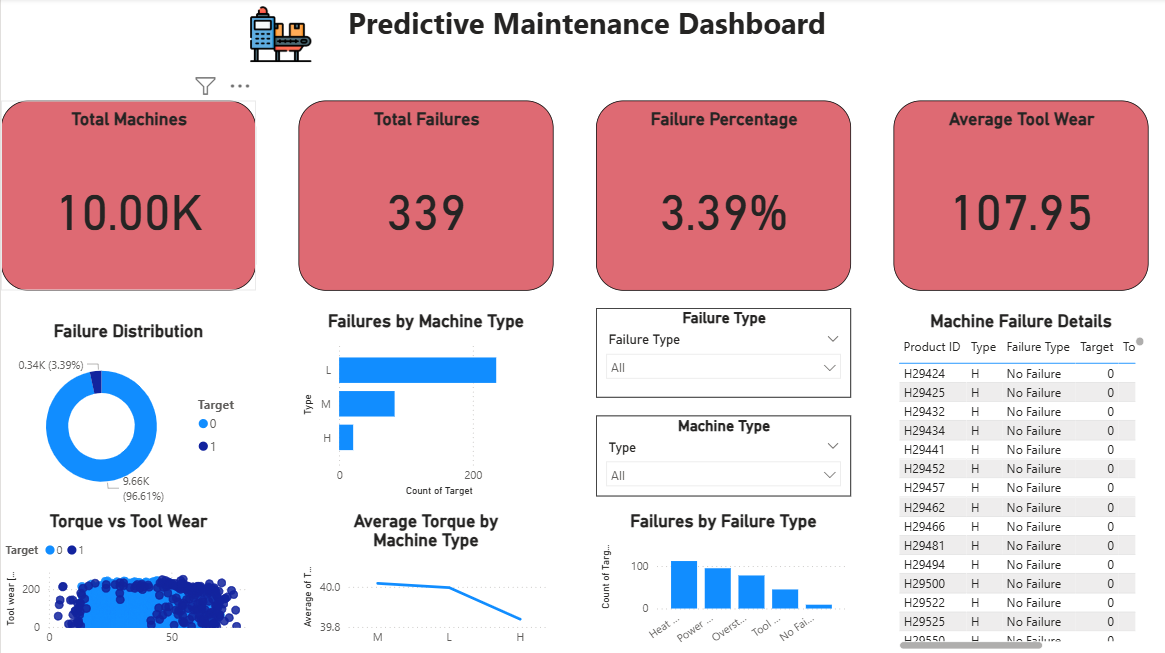

Layout of this report page (visuals, bound fields, positions):
{"tool":"powerbi","page":{"name":"Page 1","canvas":[1280,720],"ordinal":0},"visuals":[{"type":"card","title":"Total Machines","fields":{"Values":["CountNonNull(predictive_maintenance.Type)"]},"box":[0,112.5,279.9,208.6],"z":0},{"type":"card","title":"Total Failures","fields":{"Values":["CountNonNull(predictive_maintenance.Target)"]},"box":[326.6,112.5,279.9,208.6],"z":1000},{"type":"card","title":"Failure Percentage","fields":{"Values":["predictive_maintenance.Failure Rate"]},"box":[653.2,112.5,279.9,208.6],"z":2000},{"type":"card","title":"Average Tool Wear","fields":{"Values":["Avg(predictive_maintenance.Tool wear [min])"]},"box":[979.8,112.5,279.9,208.6],"z":3000},{"type":"donutChart","title":"Failure Distribution","fields":{"Category":["predictive_maintenance.Target"],"Y":["CountNonNull(predictive_maintenance.Target)"]},"box":[0,354,279.9,208.6],"z":4000},{"type":"clusteredBarChart","title":"Failures by Machine Type","fields":{"Category":["predictive_maintenance.Type"],"Y":["CountNonNull(predictive_maintenance.Target)"]},"box":[326.6,343.1,279.9,208.6],"z":5000},{"type":"scatterChart","title":"Torque vs Tool Wear","fields":{"X":["predictive_maintenance.Torque [Nm]"],"Y":["predictive_maintenance.Tool wear [min]"],"Series":["predictive_maintenance.Target"]},"box":[0,562,280,158],"z":6000},{"type":"lineChart","title":"Average  Torque  by Machine Type","fields":{"Category":["predictive_maintenance.Type"],"Y":["Avg(predictive_maintenance.Torque [Nm])"]},"box":[327,562,280,158],"z":7000},{"type":"tableEx","title":"Machine Failure Details","fields":{"Values":["predictive_maintenance.Product ID","predictive_maintenance.Type","predictive_maintenance.Failure Type","predictive_maintenance.Target","predictive_maintenance.Torque [Nm]","predictive_maintenance.Tool wear [min]"]},"box":[979.8,343.1,279.9,377.4],"z":8000},{"type":"slicer","title":"Machine Type","fields":{"Values":["predictive_maintenance.Type"]},"box":[653.2,458.3,279.9,89.2],"z":9000},{"type":"slicer","title":"Failure Type","fields":{"Values":["predictive_maintenance.Failure Type"]},"box":[653.2,340.3,279.9,98.8],"z":10000},{"type":"clusteredColumnChart","title":"Failures by Failure Type","fields":{"Category":["predictive_maintenance.Failure Type"],"Y":["CountNonNull(predictive_maintenance.Target)"]},"box":[653.2,562.6,279.9,157.8],"z":10001},{"type":"textbox","box":[376,0,557.1,89.2],"z":10002},{"type":"image","box":[260.7,1.4,93.3,76.8],"z":10003}]}

Visuals, with their boxes in screenshot pixels (x1, y1, x2, y2), scaled from the page's 1280x720 canvas onto the 1165x653 screenshot:
"Total Machines" card: x1=0 y1=102 x2=255 y2=291
"Total Failures" card: x1=297 y1=102 x2=552 y2=291
"Failure Percentage" card: x1=595 y1=102 x2=849 y2=291
"Average Tool Wear" card: x1=892 y1=102 x2=1147 y2=291
"Failure Distribution" donutChart: x1=0 y1=321 x2=255 y2=510
"Failures by Machine Type" clusteredBarChart: x1=297 y1=311 x2=552 y2=500
"Torque vs Tool Wear" scatterChart: x1=0 y1=510 x2=255 y2=652
"Average  Torque  by Machine Type" lineChart: x1=298 y1=510 x2=552 y2=652
"Machine Failure Details" tableEx: x1=892 y1=311 x2=1147 y2=652
"Machine Type" slicer: x1=595 y1=416 x2=849 y2=497
"Failure Type" slicer: x1=595 y1=309 x2=849 y2=398
"Failures by Failure Type" clusteredColumnChart: x1=595 y1=510 x2=849 y2=652
textbox: x1=342 y1=0 x2=849 y2=81
image: x1=237 y1=1 x2=322 y2=71
